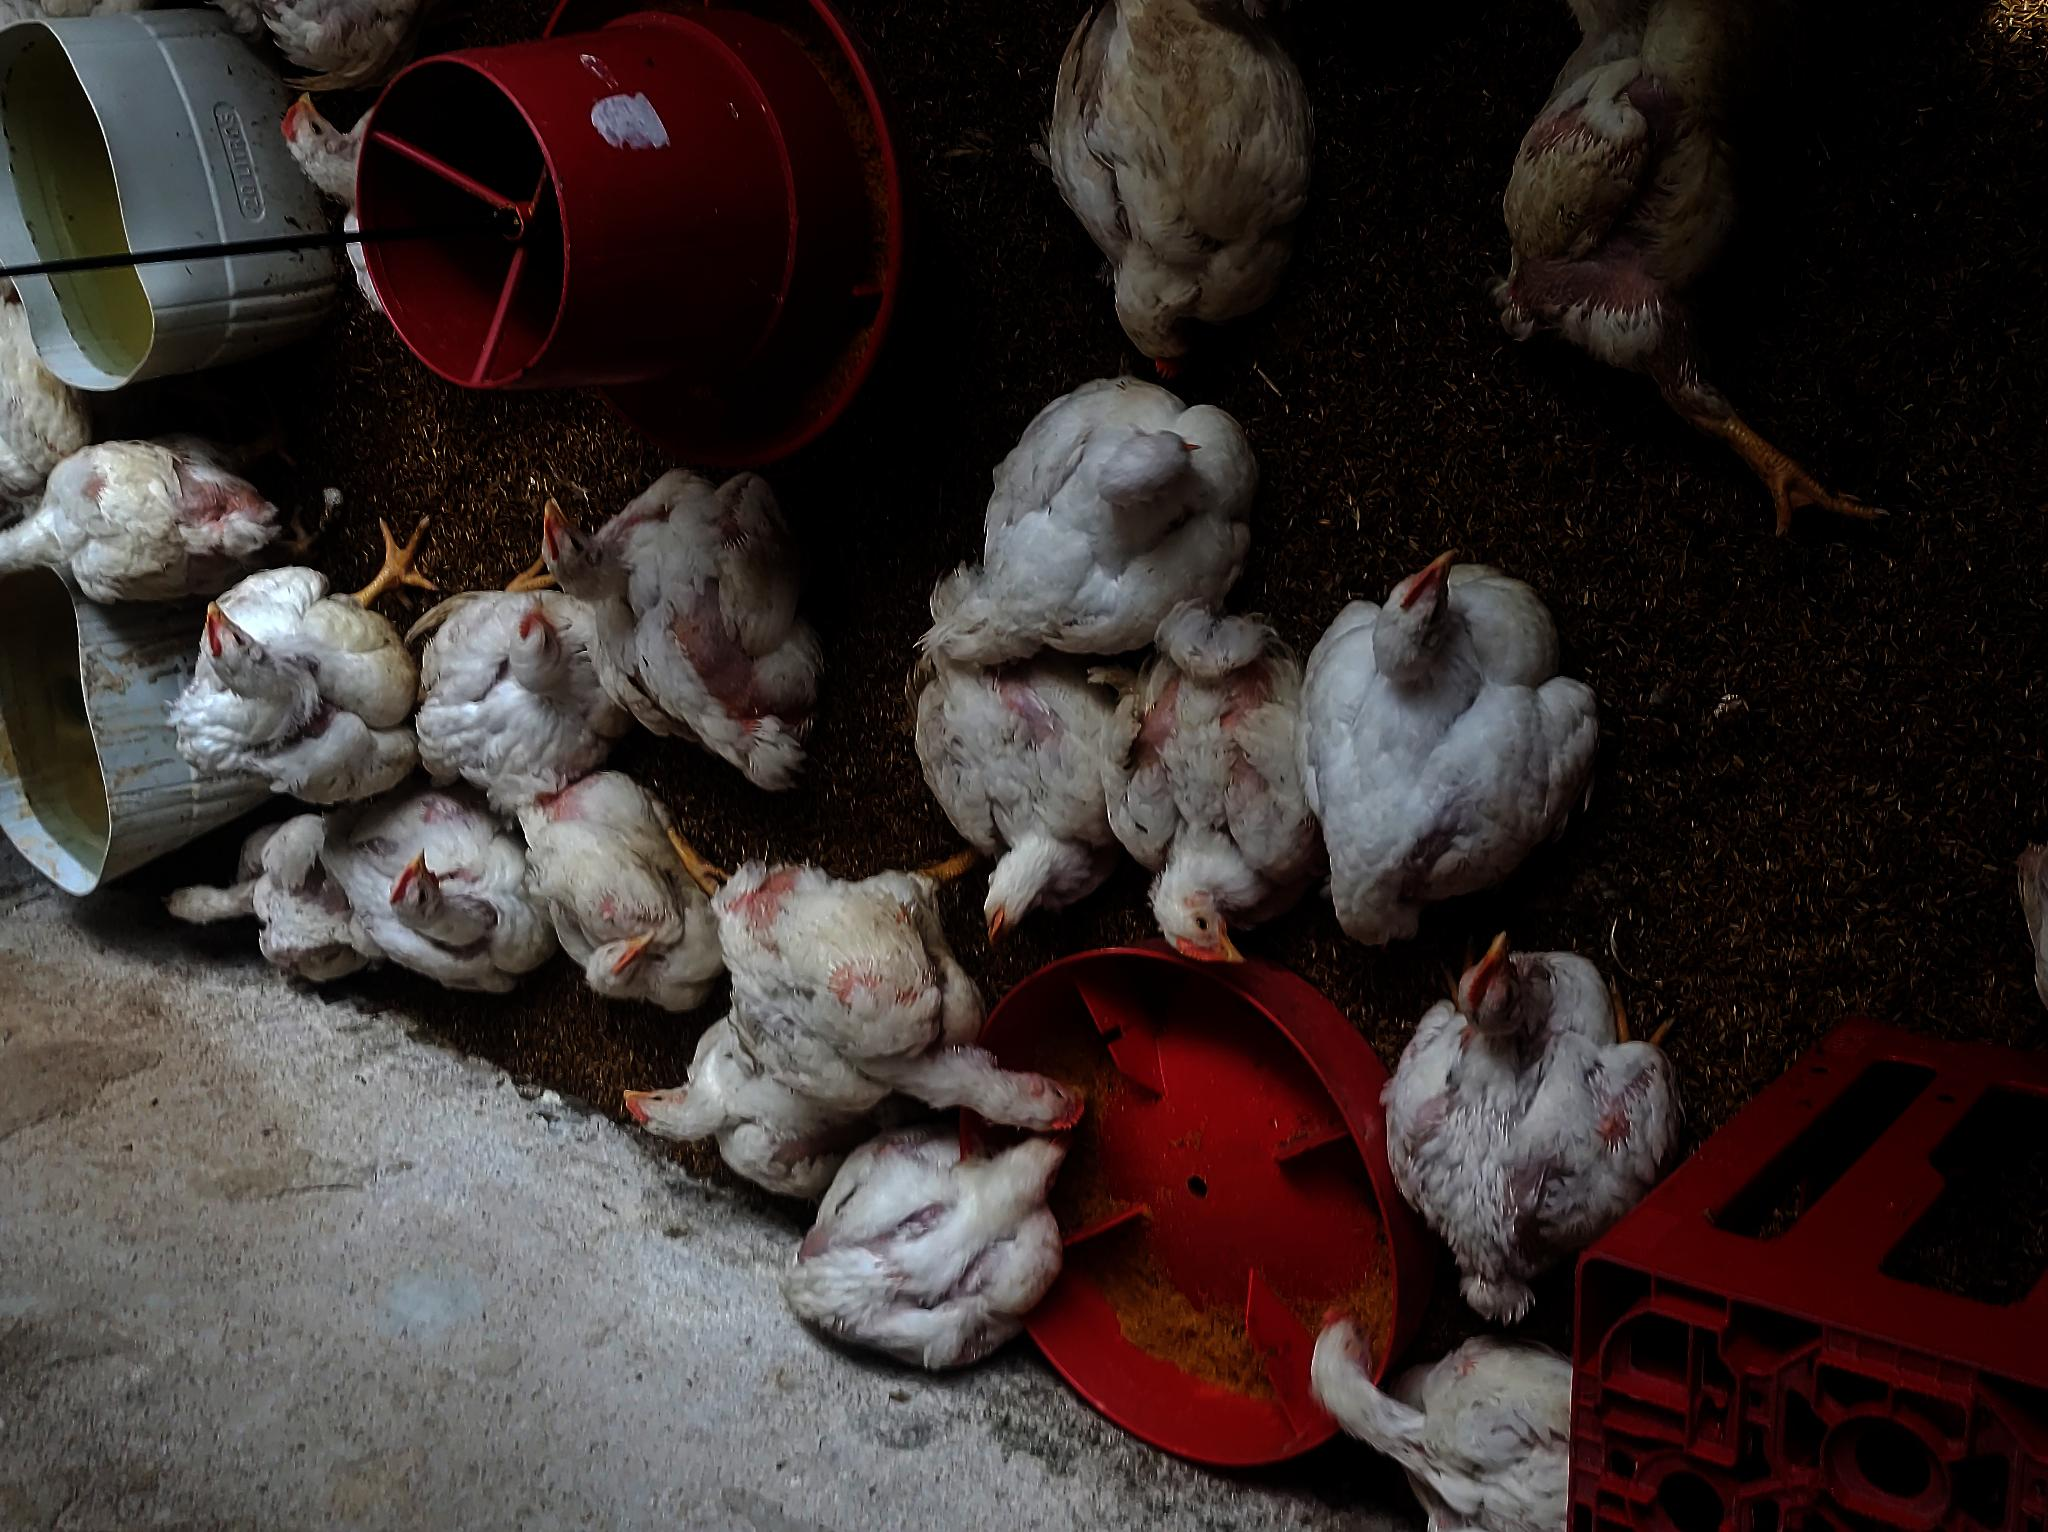Pollos: (624, 467, 973, 840), (1507, 0, 1800, 443), (713, 853, 1125, 1152), (1310, 537, 1615, 927), (658, 1136, 1112, 1390), (1096, 612, 1404, 983), (1063, 0, 1326, 356), (1252, 1287, 1615, 1532), (423, 517, 676, 826), (985, 323, 1266, 600), (1424, 961, 1662, 1278), (911, 600, 1137, 904), (167, 550, 426, 803), (504, 779, 775, 1006), (343, 772, 578, 1019), (602, 1001, 843, 1223), (19, 396, 275, 595), (161, 769, 344, 969)
